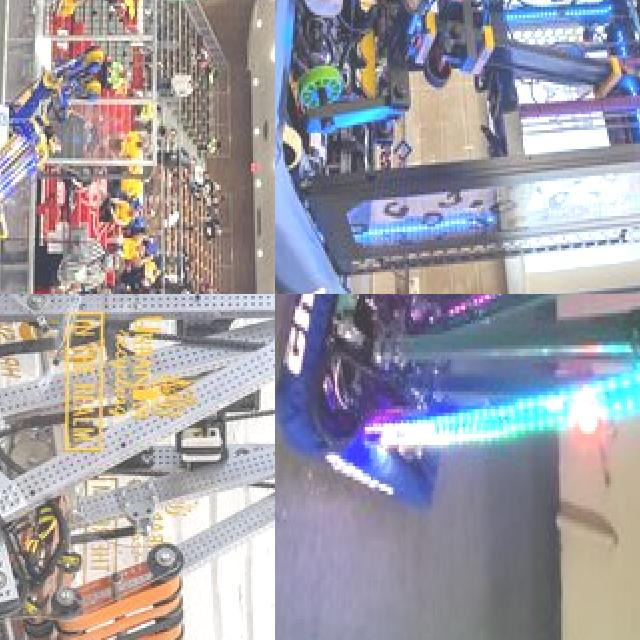FRC-Robots: (275, 0, 640, 294), (0, 294, 275, 640), (275, 294, 640, 548), (0, 13, 207, 294)
